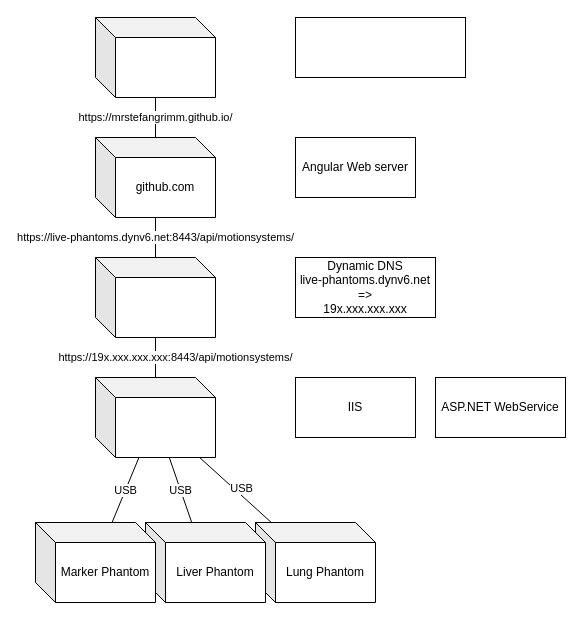
This 583x620 diagram has some shape labels left out. Here are the shapes that lost their labels. From the top down, the centre of each, then its label:
pixel 155 57: Client
pixel 380 47: Web Browser mrstefangrimm.github.io
pixel 155 297: dynv6.net
pixel 155 417: localhost
